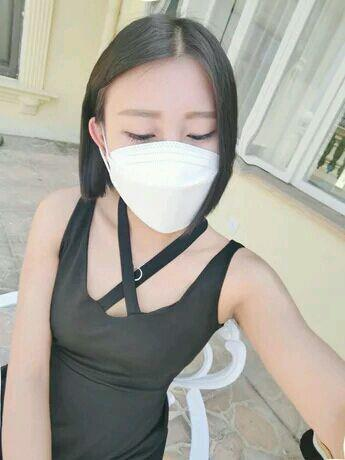OK: (108, 103, 233, 228)
